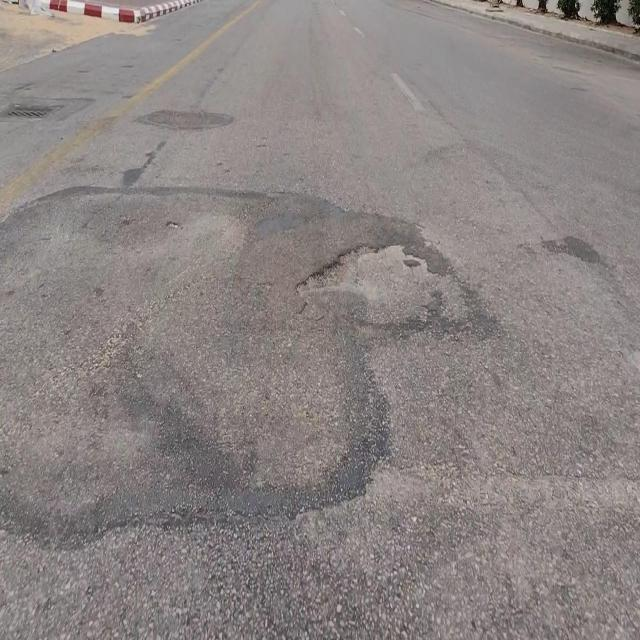Pothole: (293, 239, 469, 329)
